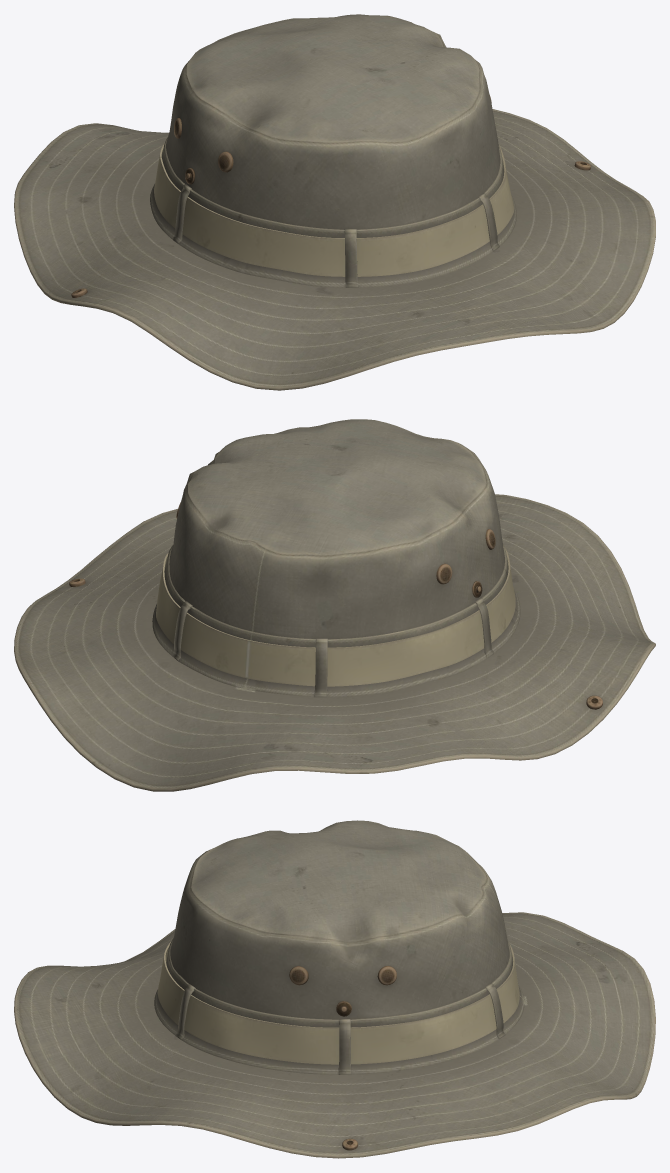
File: fishermans_hat.glb
The picture shows the model from 3 angles, top to bottom: view 1: azimuth 30°, elevation 25°; view 2: azimuth 150°, elevation 25°; view 3: azimuth 270°, elevation 25°; orthographic projection. The views are drawn at different scales.
Visible parts, largest first — view 1: fishermans_hat; view 2: fishermans_hat; view 3: fishermans_hat.
Part boxes in pixels (x1,y1,x2,y2): fishermans_hat: (14,14,655,390); fishermans_hat: (14,419,655,791); fishermans_hat: (14,820,655,1158).
Size of the model in its own units: 0.3236 by 0.1239 by 0.35.
1 material, 1 textured.
